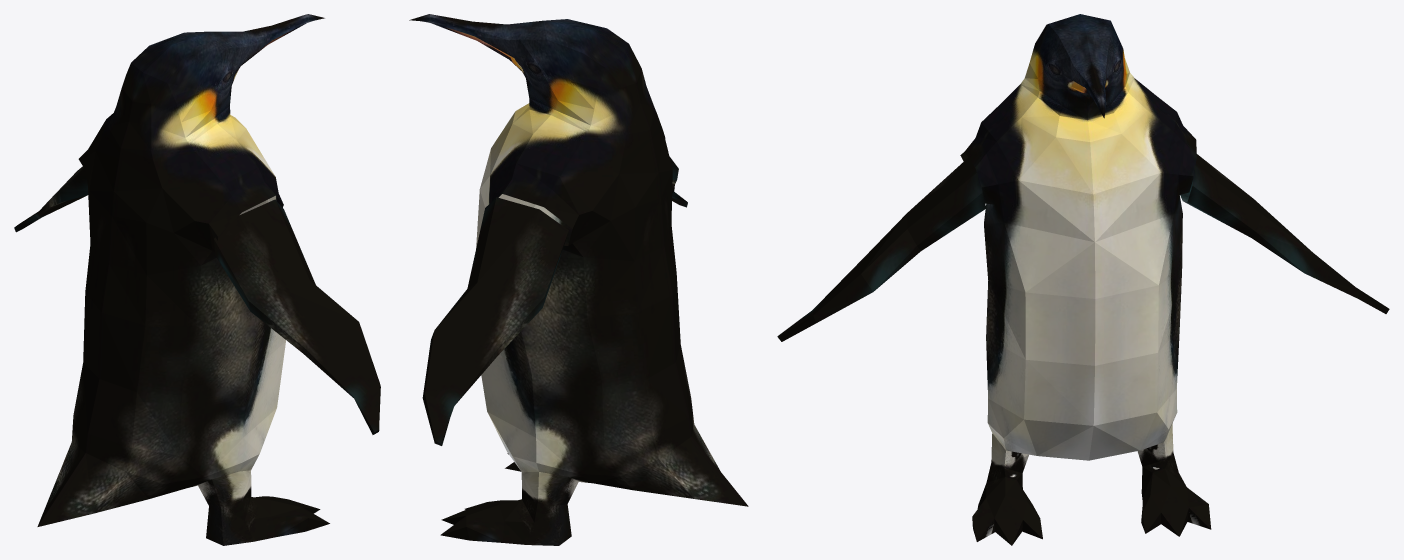
The model's file is Pingu1.obj.
The picture shows the model from 3 angles, left to right: view 1: azimuth 30°, elevation 25°; view 2: azimuth 150°, elevation 25°; view 3: azimuth 270°, elevation 25°; orthographic projection. The views are drawn at different scales.
Visible parts, largest first — view 1: Pie_izq_Mesh, polySurface1, Ala_izq_polySurface4; view 2: Pie_izq_Mesh, Ala_izq_polySurface4; view 3: Pie_izq_Mesh, polySurface1, Ala_izq_polySurface4.
Boxes of the visible parts, x1=… form: Pie_izq_Mesh: x1=37, y1=14, x2=329, y2=545; polySurface1: x1=214, y1=199, x2=380, y2=434; Ala_izq_polySurface4: x1=14, y1=166, x2=88, y2=232; Pie_izq_Mesh: x1=409, y1=14, x2=748, y2=545; Ala_izq_polySurface4: x1=422, y1=197, x2=568, y2=445; Pie_izq_Mesh: x1=960, y1=14, x2=1211, y2=545; polySurface1: x1=777, y1=157, x2=986, y2=341; Ala_izq_polySurface4: x1=1180, y1=154, x2=1389, y2=313.
Size of the model in its own units: 0.9674 by 1.39 by 1.63.
Materials: 5 (5 with a texture image).
